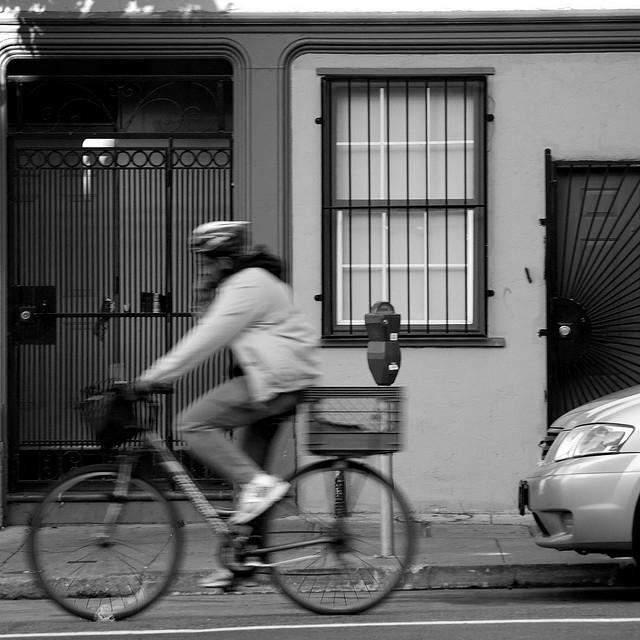bicycle: (26, 377, 418, 620)
car: (518, 386, 640, 570)
